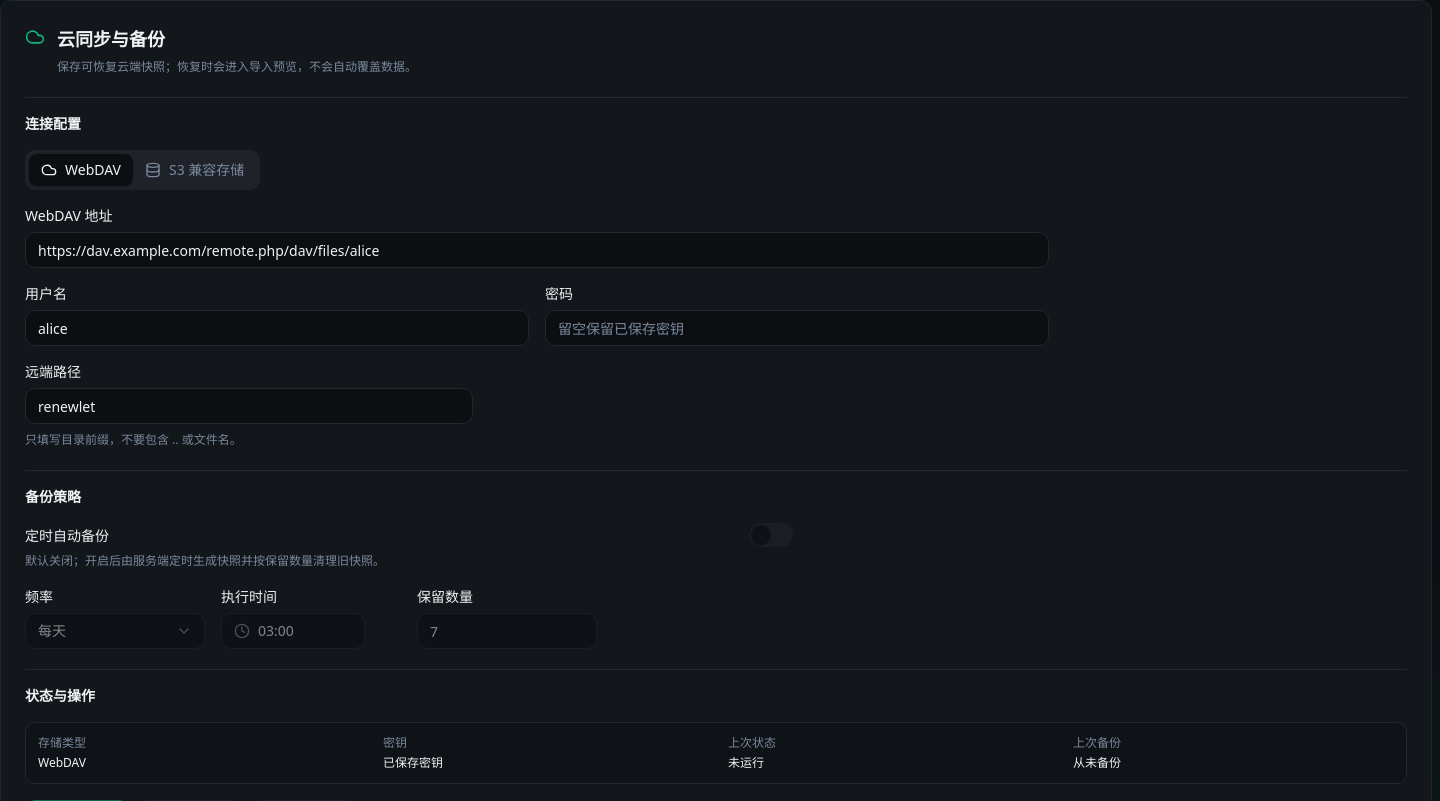
Test case: CloudBackupSection › matches restoring state by provider and id so S3 does not inherit WebDAV loading
Click the tab "S3 兼容存储". click: [195, 170]
box: [133,154,256,186]
(page scrolled)
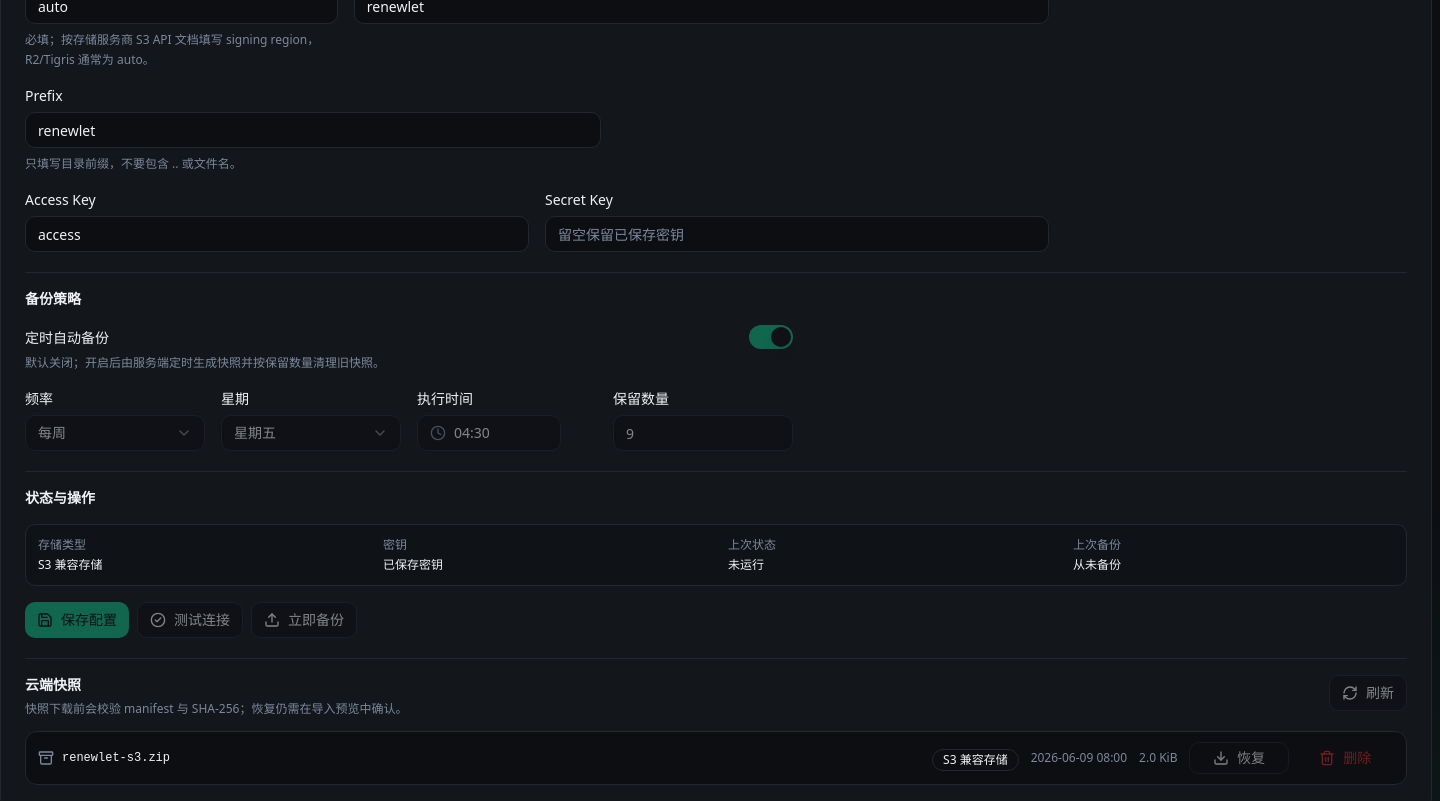
Expected: the button "恢复" is disabled, [1190,742,1289,774]
Expected: the text "renewlet-s3.zip" is shown, [62,750,170,766]
